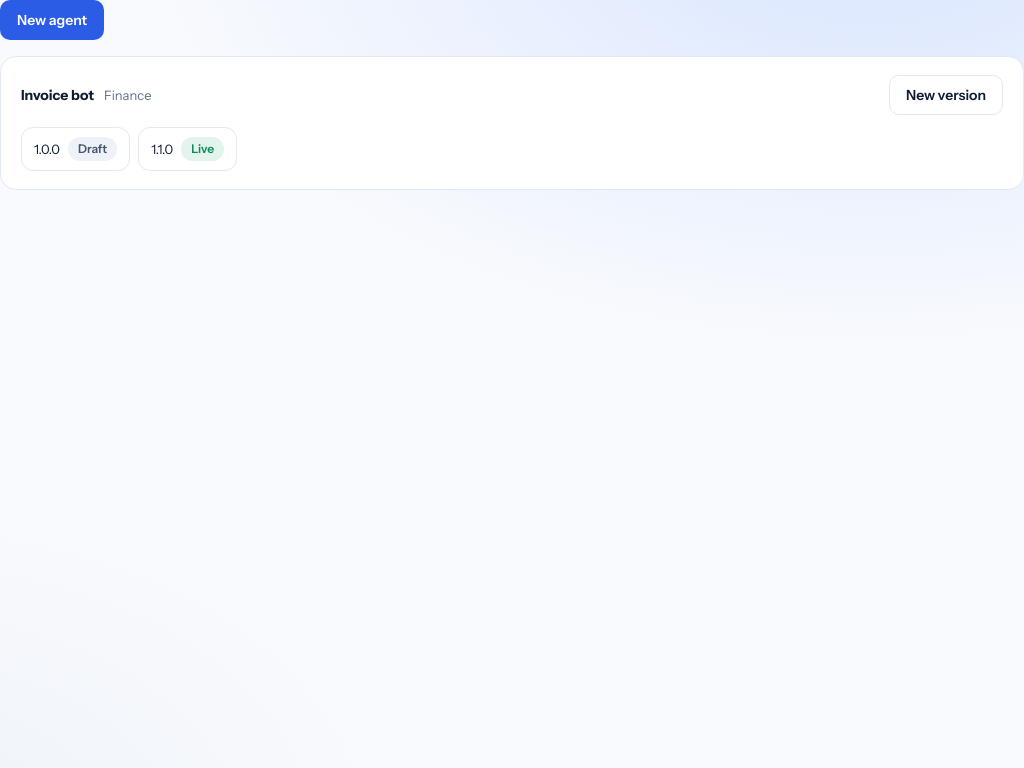
shows a manifest failure under the manifest field
Click the button with aria-label "New version for Invoice bot" at [946, 95], box [889, 75, 1003, 115]
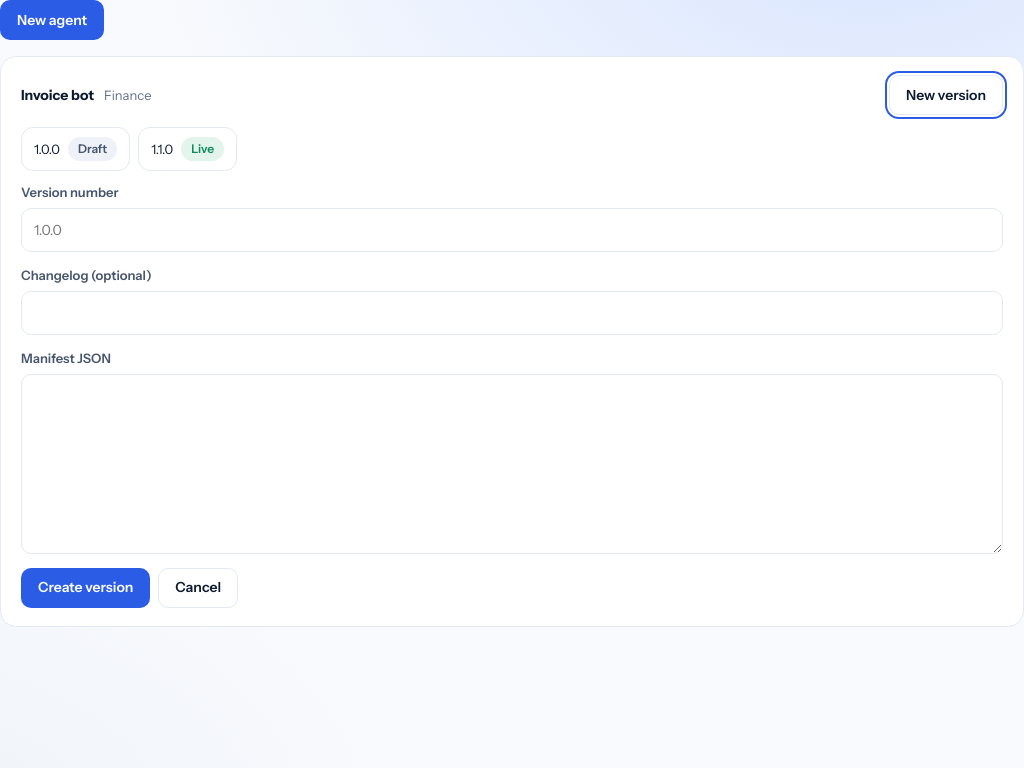
Type "2.0.0" into the field labelled "Version number" at [512, 230], box [21, 208, 1003, 252]
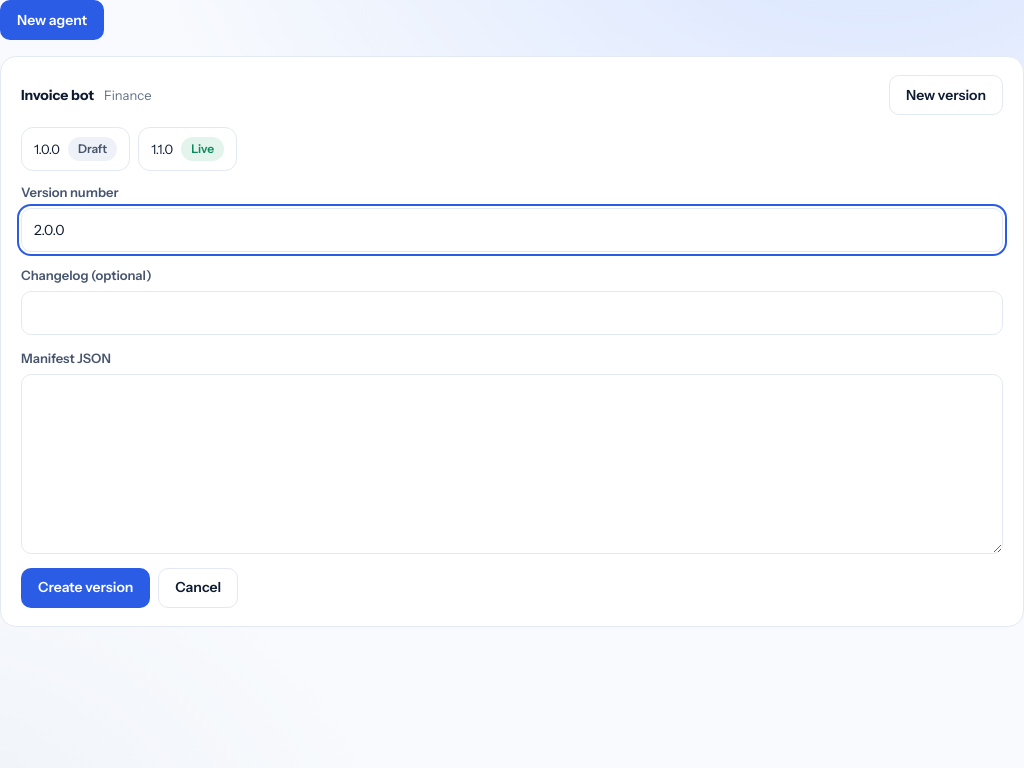
Click the text box labelled "Manifest JSON" at [512, 464], box [21, 374, 1003, 554]
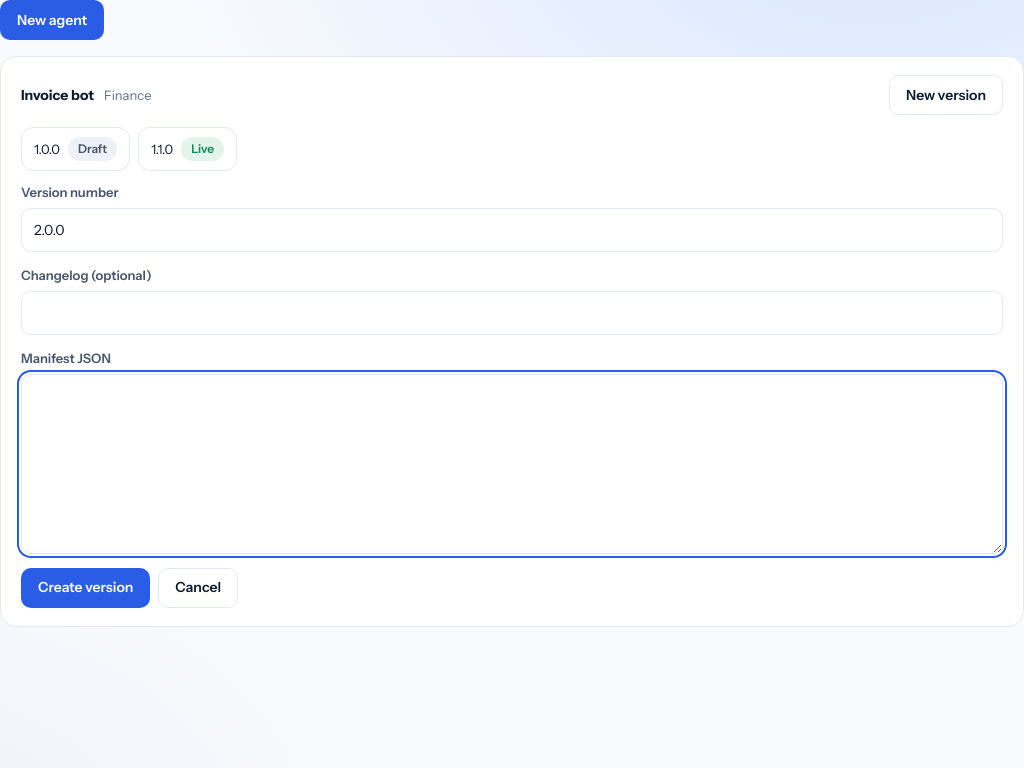
Type keys "{\"name\":\"x\"}"
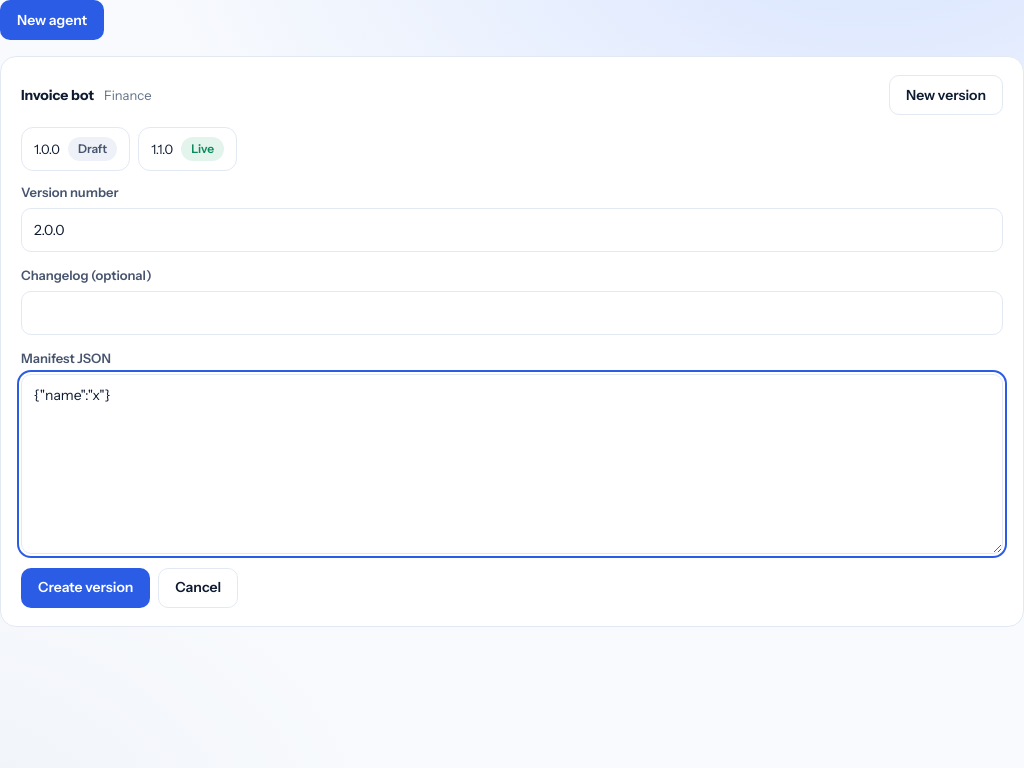
Click the button "Create version" at [86, 588], box [21, 568, 150, 608]
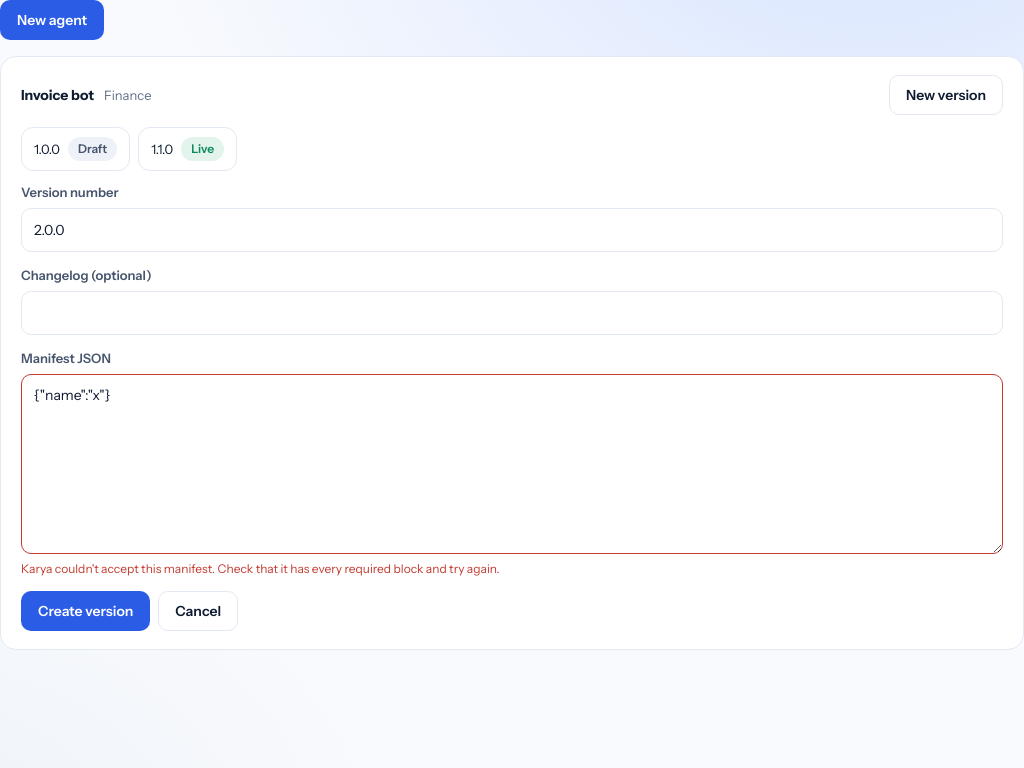
Expected: the text "couldn't accept this manifest" is shown, [21, 560, 500, 576]
